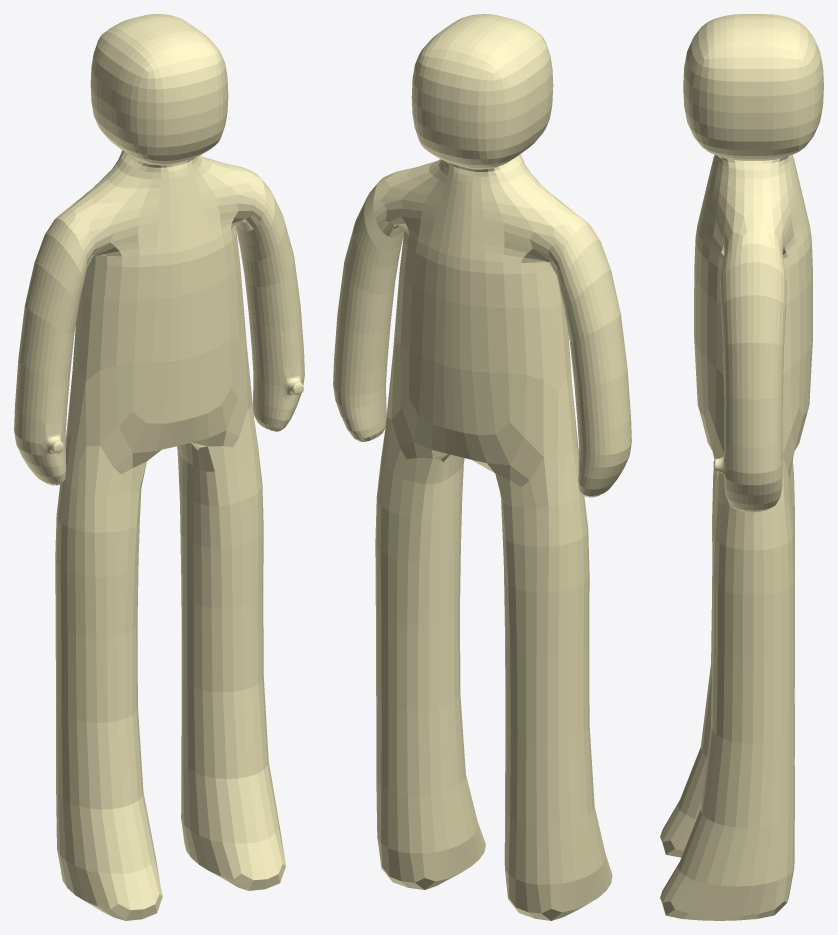
Rendered from character.glb.
3 views of the same model, side by side, from view 1: azimuth 30°, elevation 25°; view 2: azimuth 150°, elevation 25°; view 3: azimuth 270°, elevation 25° (orthographic). The views are drawn at different scales.
Parts seen in each view (by area): view 1: Cube; view 2: Cube; view 3: Cube.
Boxes of the visible parts, x1,y1,x2,y2 form: Cube: [14, 14, 304, 920]; Cube: [333, 14, 631, 920]; Cube: [660, 14, 823, 920].
Size of the model in its own units: 1.65 by 4.73 by 0.8196.
